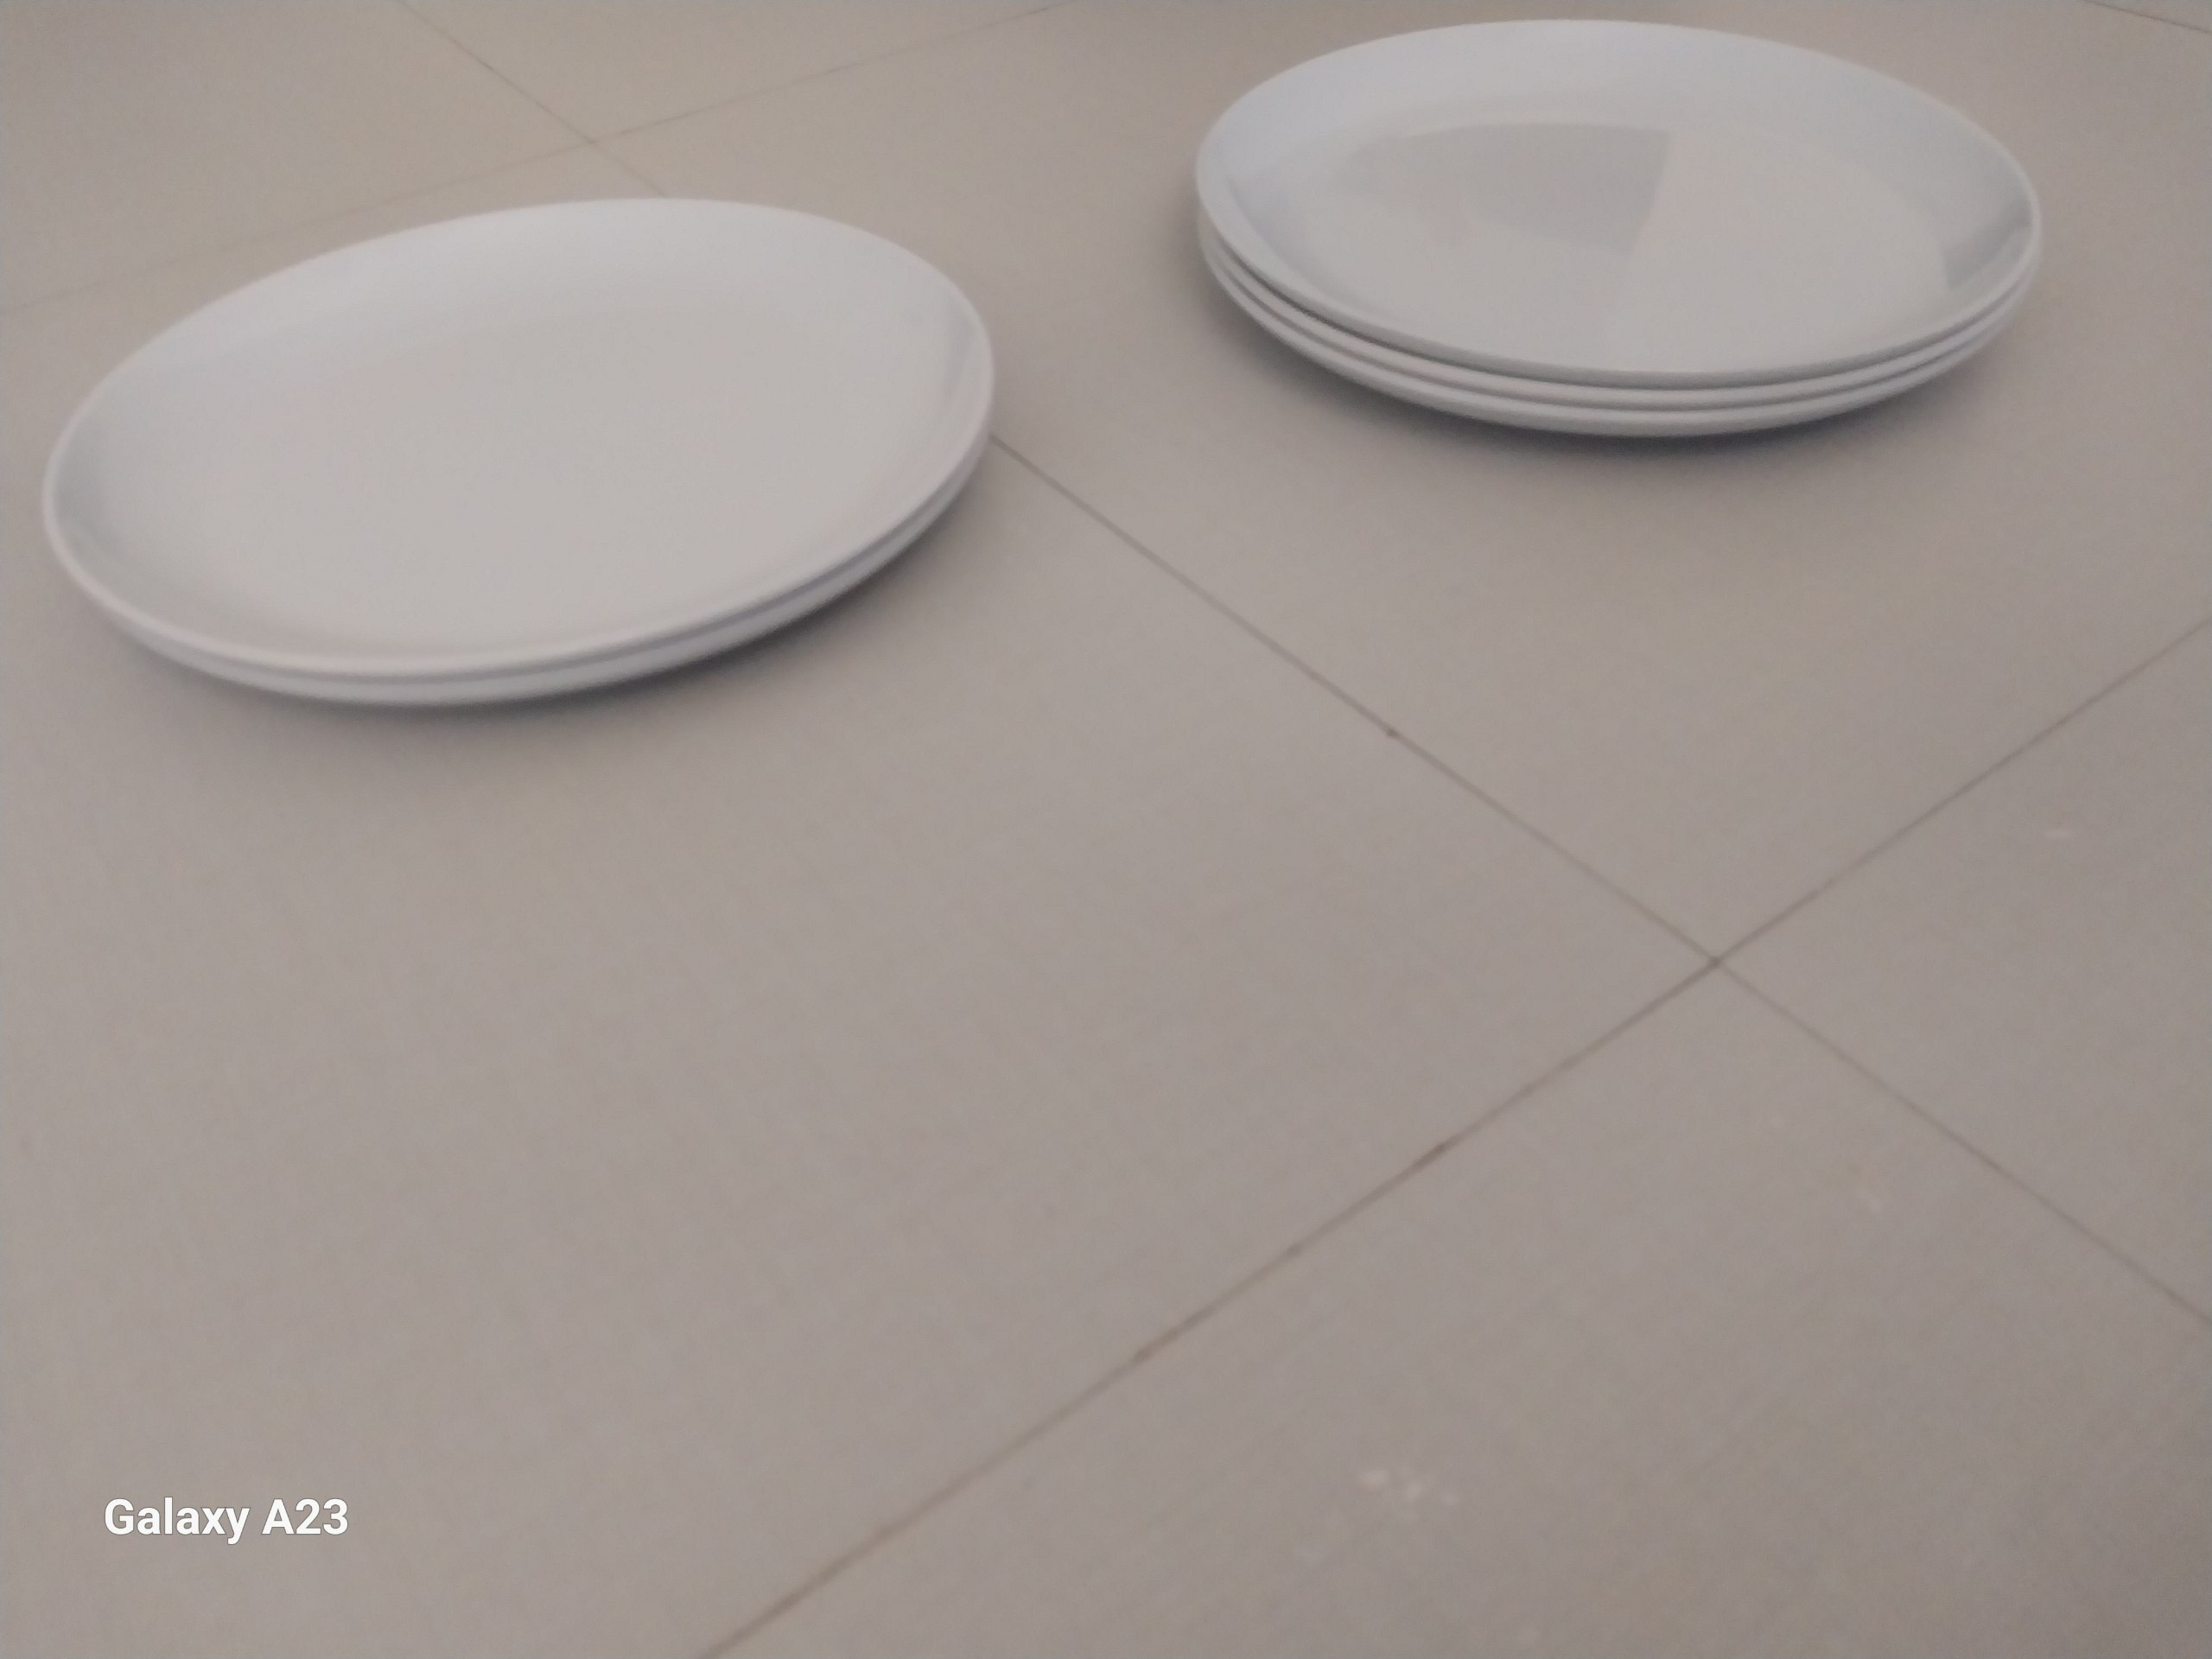Plate: (30, 176, 1007, 721), (1176, 7, 2060, 448)
